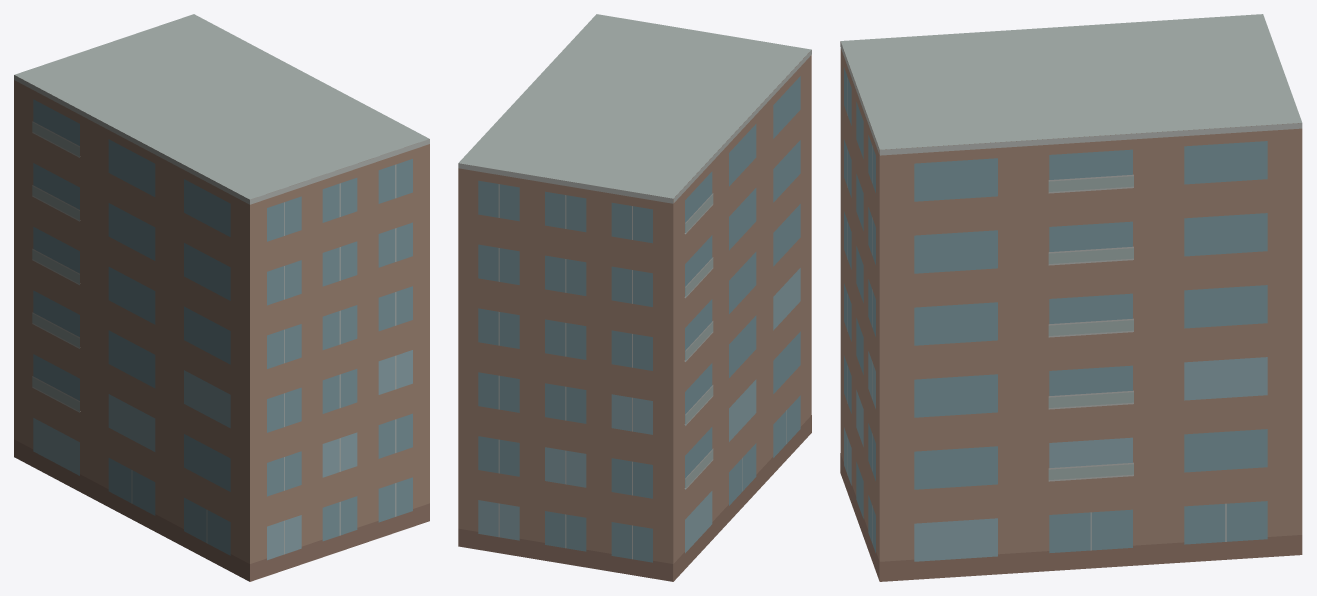
Rendered from survey-upis-32577296.glb.
3 renders of one model, left to right at view 1: azimuth 30°, elevation 25°; view 2: azimuth 150°, elevation 25°; view 3: azimuth 270°, elevation 25°, orthographic. The views are drawn at different scales.
Parts seen in each view (by area): view 1: survey-upis-32577296.tmp; view 2: survey-upis-32577296.tmp; view 3: survey-upis-32577296.tmp.
Part boxes in pixels (x1,y1,x2,y2): survey-upis-32577296.tmp: (14,14,429,581); survey-upis-32577296.tmp: (458,14,811,581); survey-upis-32577296.tmp: (840,14,1302,581).
Bounding box in the file's own units: 12.35 × 18.3 × 17.74.
